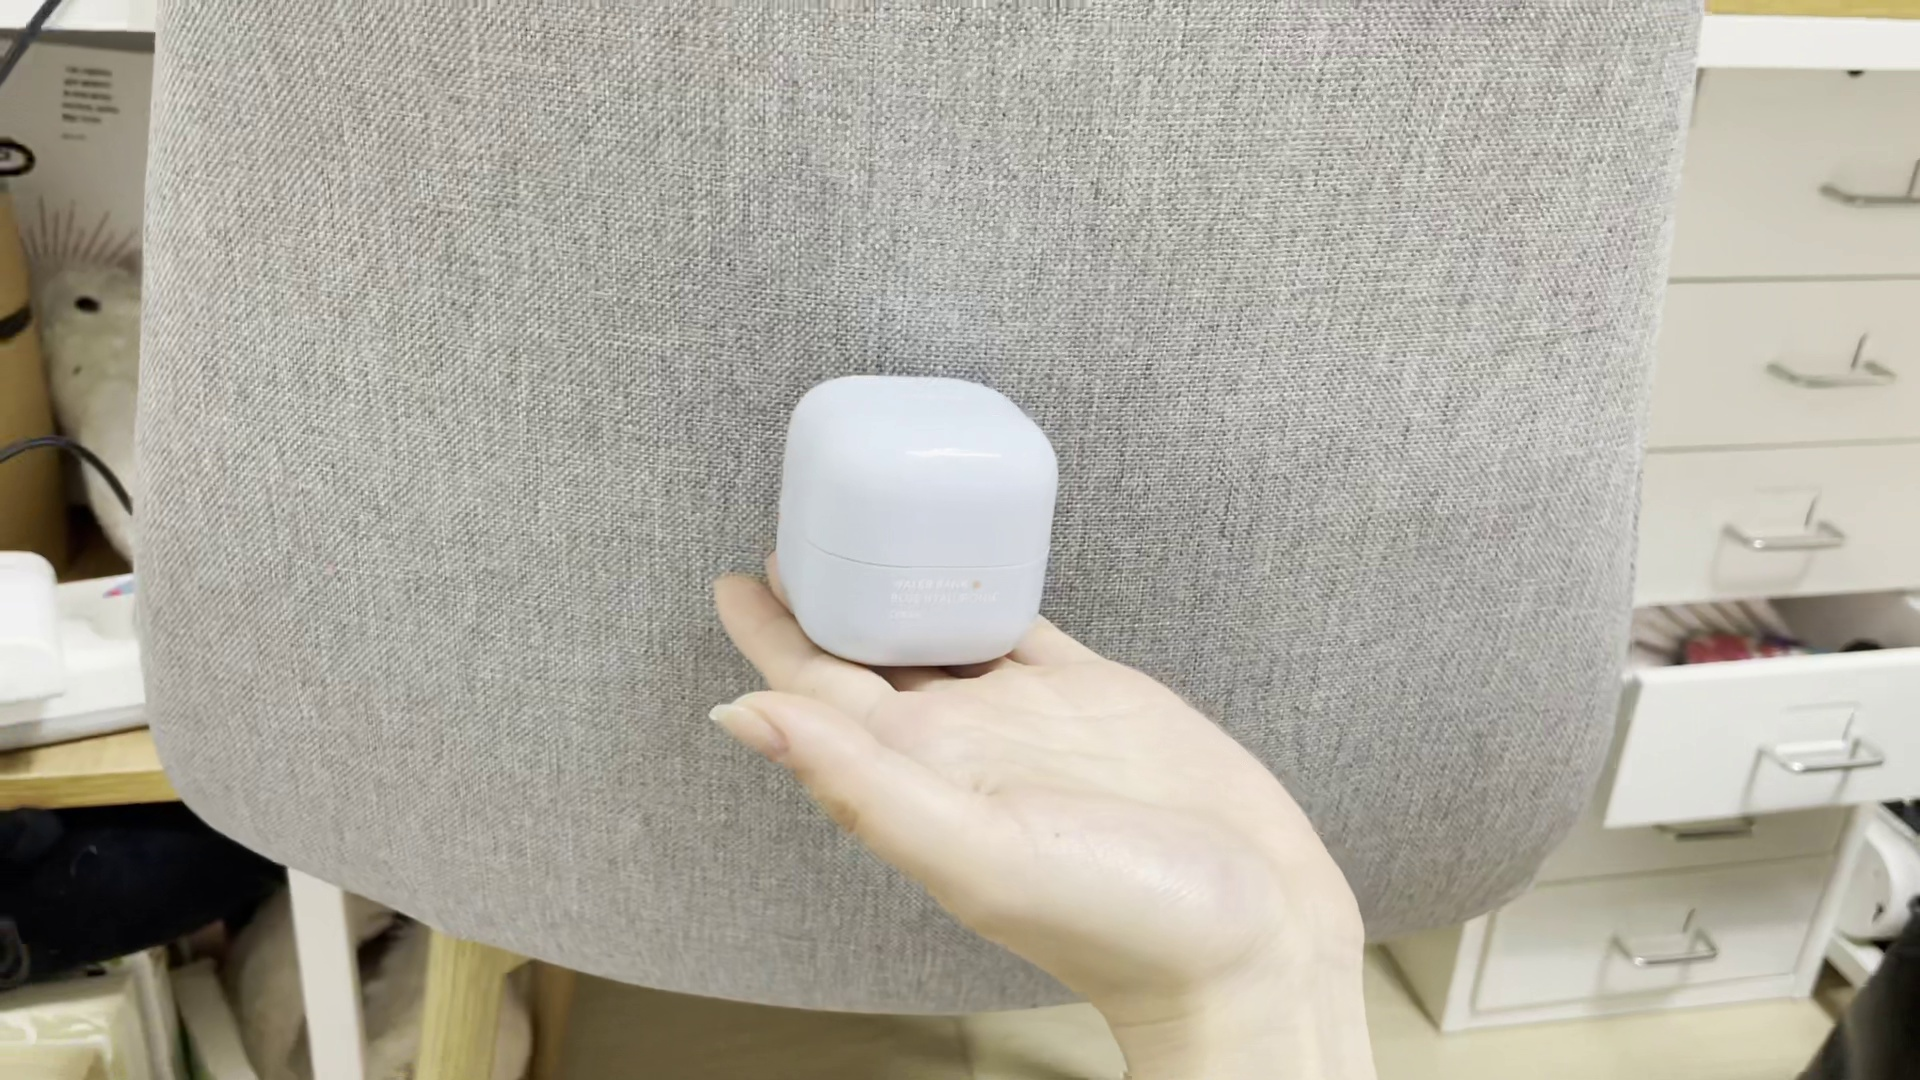cream: (775, 376, 1052, 662)
